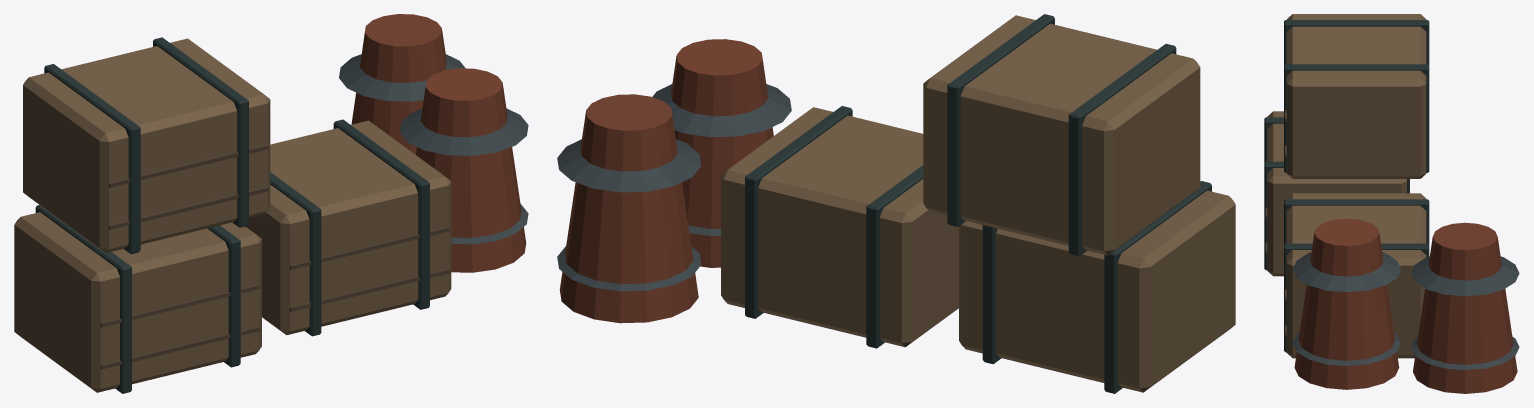
Rendered from field_stores.glb.
3 renders of one model, left to right at view 1: azimuth 30°, elevation 25°; view 2: azimuth 150°, elevation 25°; view 3: azimuth 270°, elevation 25°, orthographic. The views are drawn at different scales.
Parts seen in each view (by area): view 1: field_stores_mesh; view 2: field_stores_mesh; view 3: field_stores_mesh.
Boxes of the visible parts, x1=… form: field_stores_mesh: x1=14, y1=14, x2=528, y2=393; field_stores_mesh: x1=557, y1=14, x2=1235, y2=393; field_stores_mesh: x1=1264, y1=14, x2=1519, y2=393.
Size of the model in its own units: 2.41 by 1.2 by 1.32.
